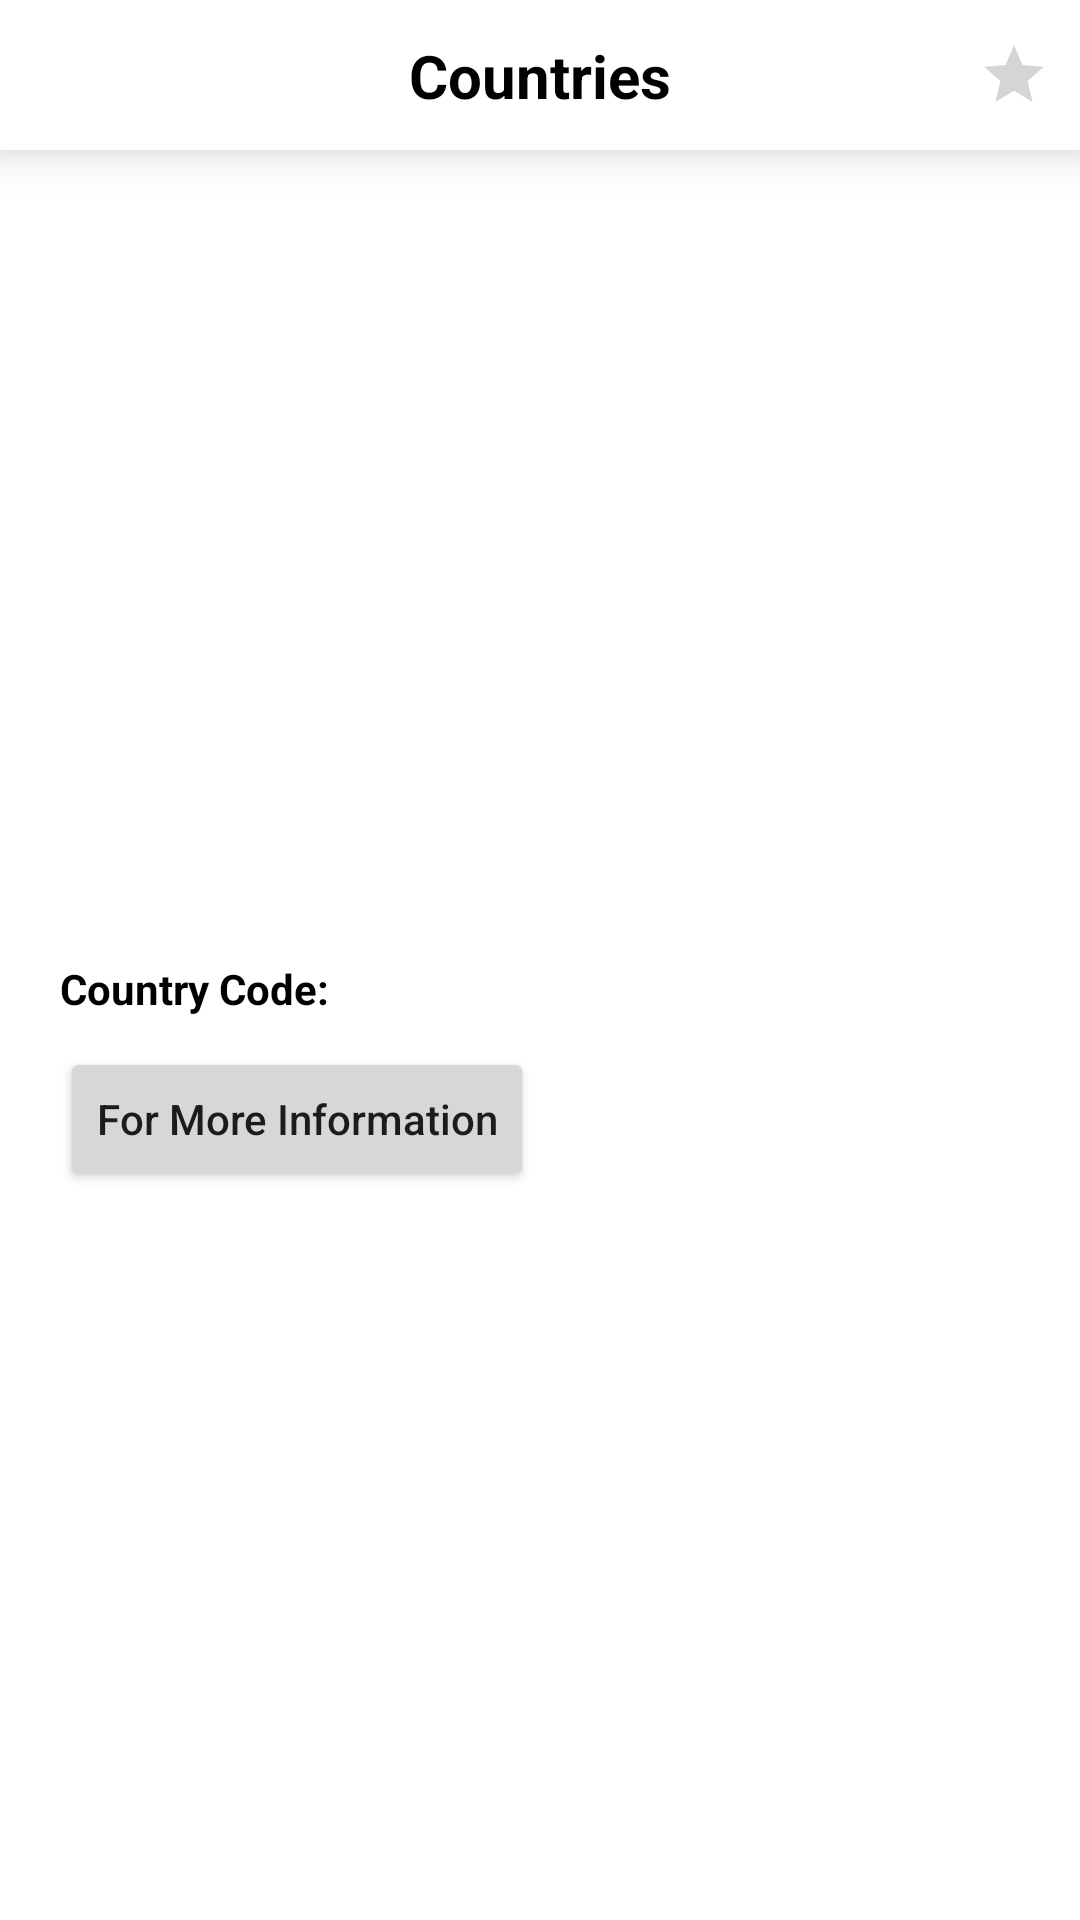

Icons on this 1080 x 1920 Android screen, each with the point to tap as (x,y):
star: (1014,73)
